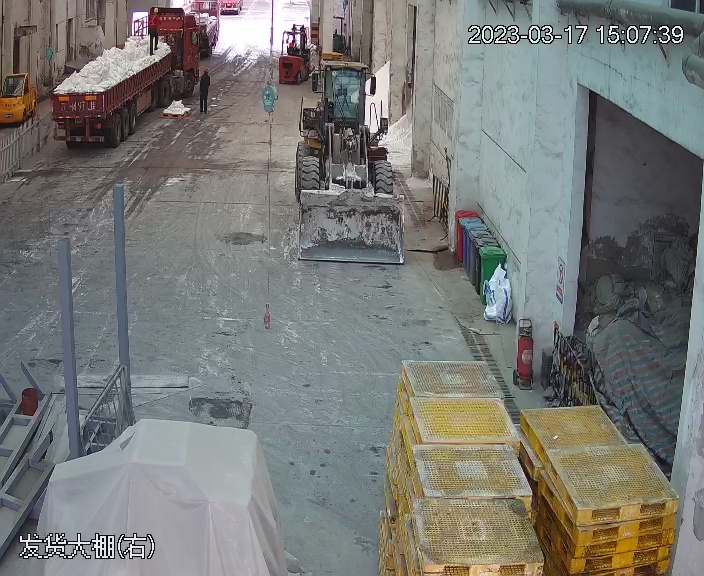belt: (149, 14, 159, 27)
head: (201, 66, 211, 84), (150, 7, 160, 21)
helmet: (203, 66, 210, 74), (154, 8, 159, 13)
people: (146, 6, 160, 57), (197, 65, 211, 114)
truck: (39, 2, 218, 155)
